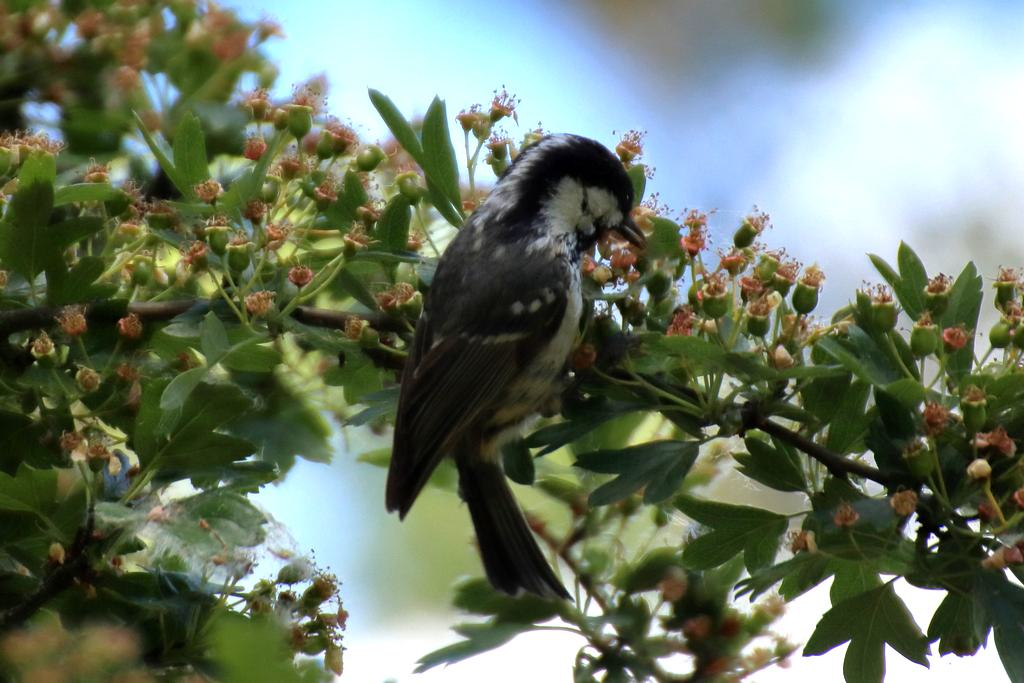PeriparusAter: (384, 132, 645, 603)
